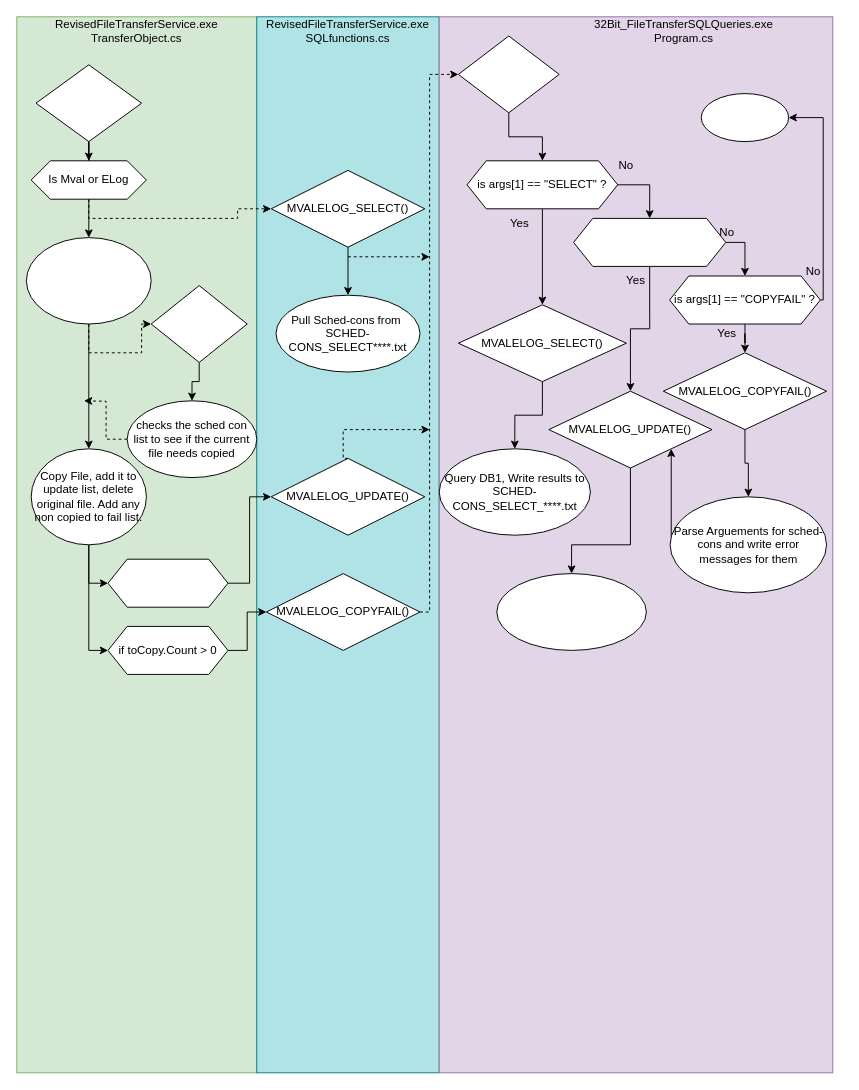
Some shapes in this 859 by 1090 pixel diagram are drawn without their labels. Each missing label, with the centre of its shape:
FTPFileMove(): point 88,103
if toUpdate.Count > 0: point 167,582
is args[1] == "UPDATE" ?: point 649,241
ItemContains(): point 198,323
Main(args[]): point 508,74
Parse Arguements for sched-cons and write dump times for them: point 571,611
Pulll the names of all the available files on the FTP server: point 88,280
return;: point 744,117
